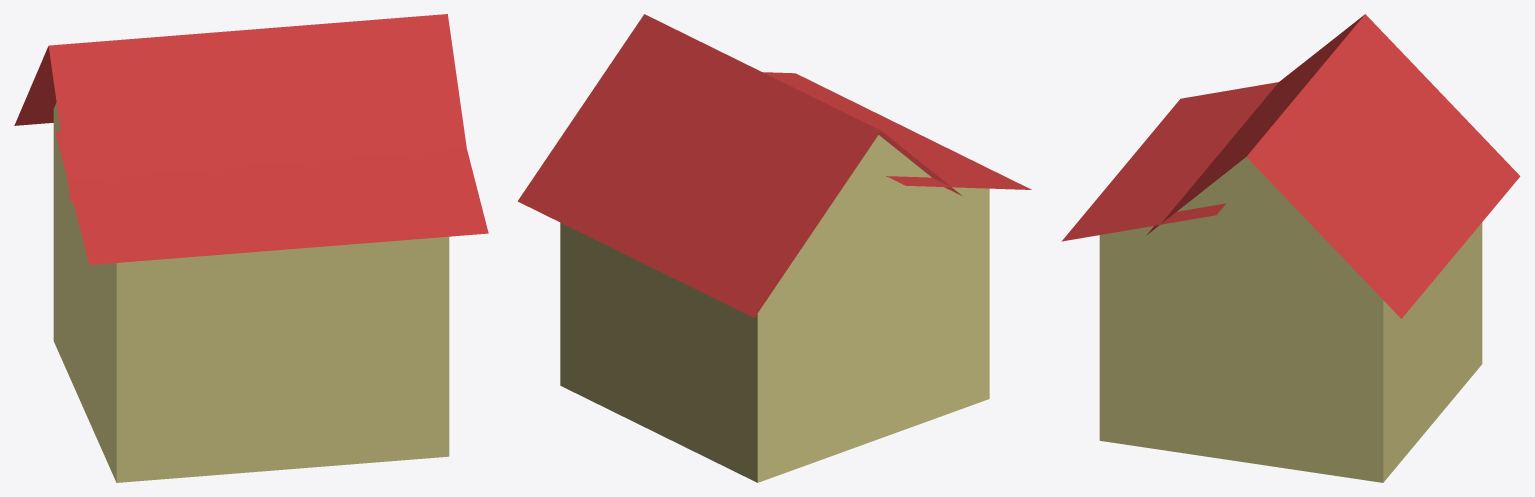
The picture shows the model from 3 angles, left to right: view 1: azimuth 30°, elevation 25°; view 2: azimuth 150°, elevation 25°; view 3: azimuth 270°, elevation 25°; orthographic projection. The views are drawn at different scales.
Size of the model in its own units: 15.33 by 15.37 by 11.79.
